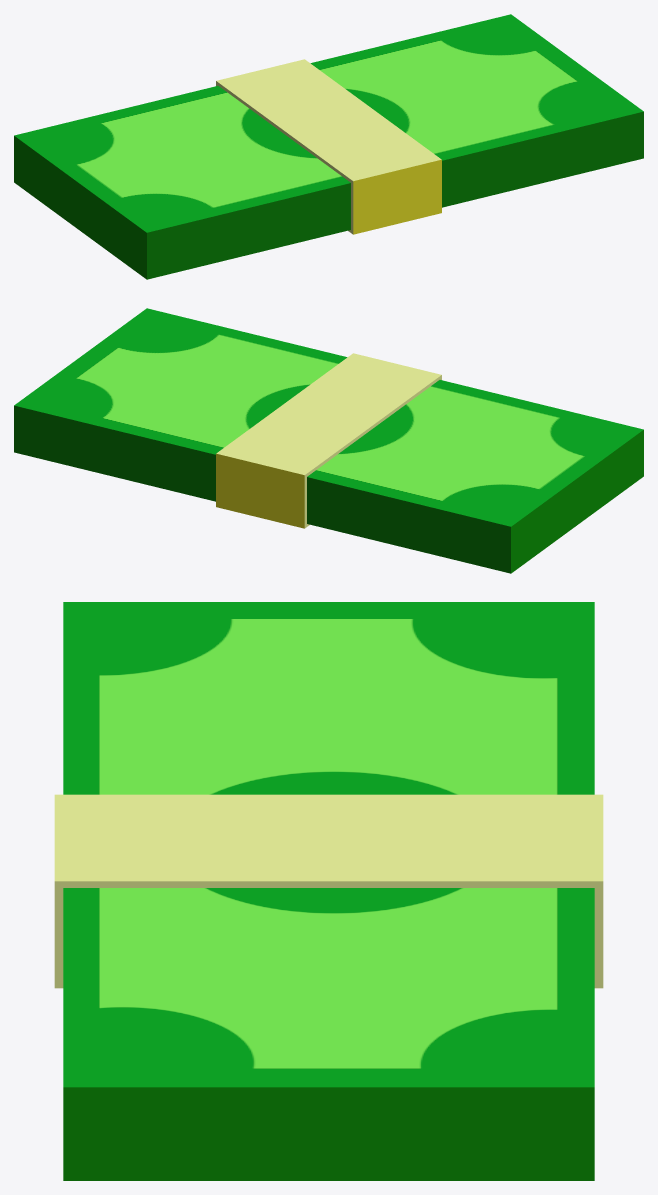
The model's file is Dolar.fbx.
3 renders of one model, top to bottom at view 1: azimuth 30°, elevation 25°; view 2: azimuth 150°, elevation 25°; view 3: azimuth 270°, elevation 25°, orthographic. The views are drawn at different scales.
Parts seen in each view (by area): view 1: Dolar; view 2: Dolar; view 3: Dolar.
Part boxes in pixels (bbox=[...]): Dolar: bbox=[14, 14, 643, 279]; Dolar: bbox=[14, 308, 643, 573]; Dolar: bbox=[54, 602, 603, 1180].
Bounding box in the file's own units: 62.4 × 6.42 × 29.82.
1 material, 1 textured.
